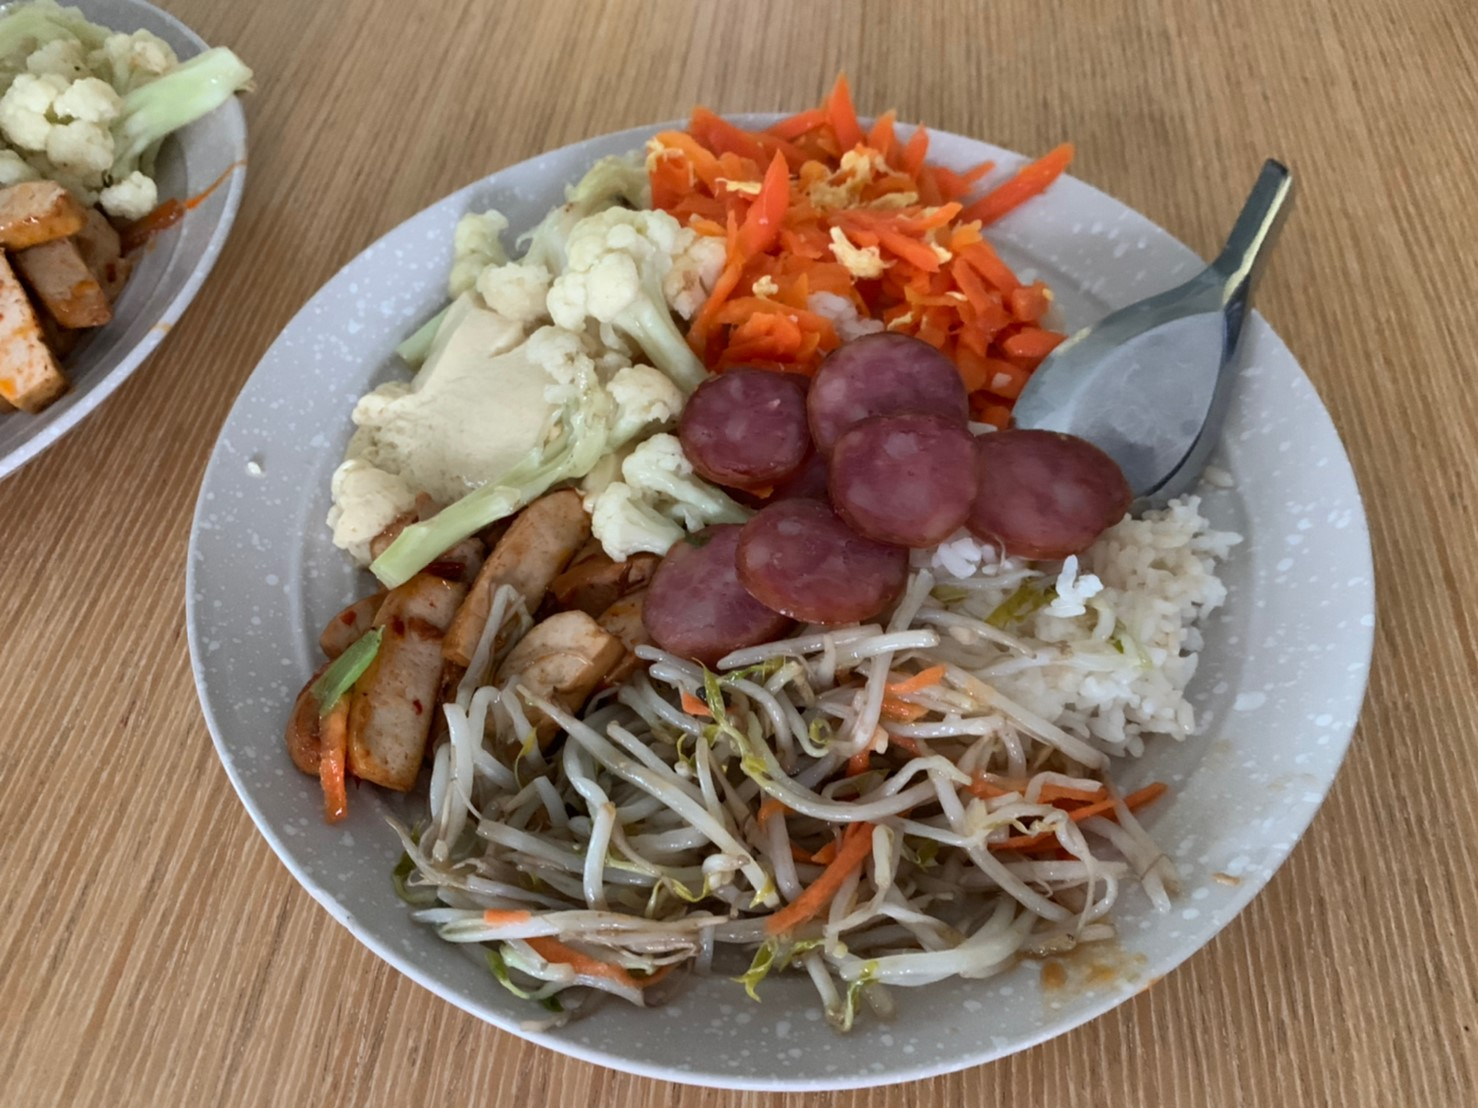carrot_eggs: (647, 100, 1050, 392)
chinese_sausage: (644, 347, 1141, 649)
mung_bean_sprouts: (415, 617, 1103, 1001)
rice: (1025, 490, 1229, 750)
